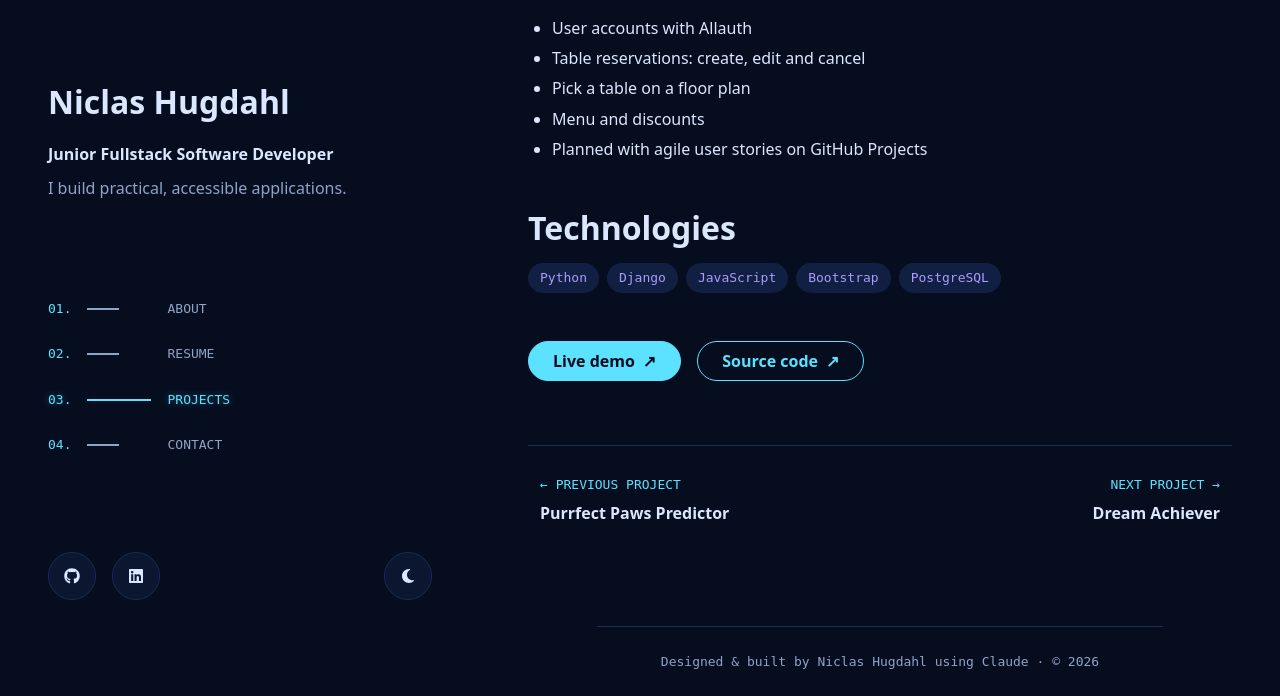
Test: ProjectDetailPage › links to the previous and next project, and follows them
(page scrolled)
Click the link "Next project → Dream Achiever": [1156, 500] box [1093,477,1220,524]
(page scrolled)
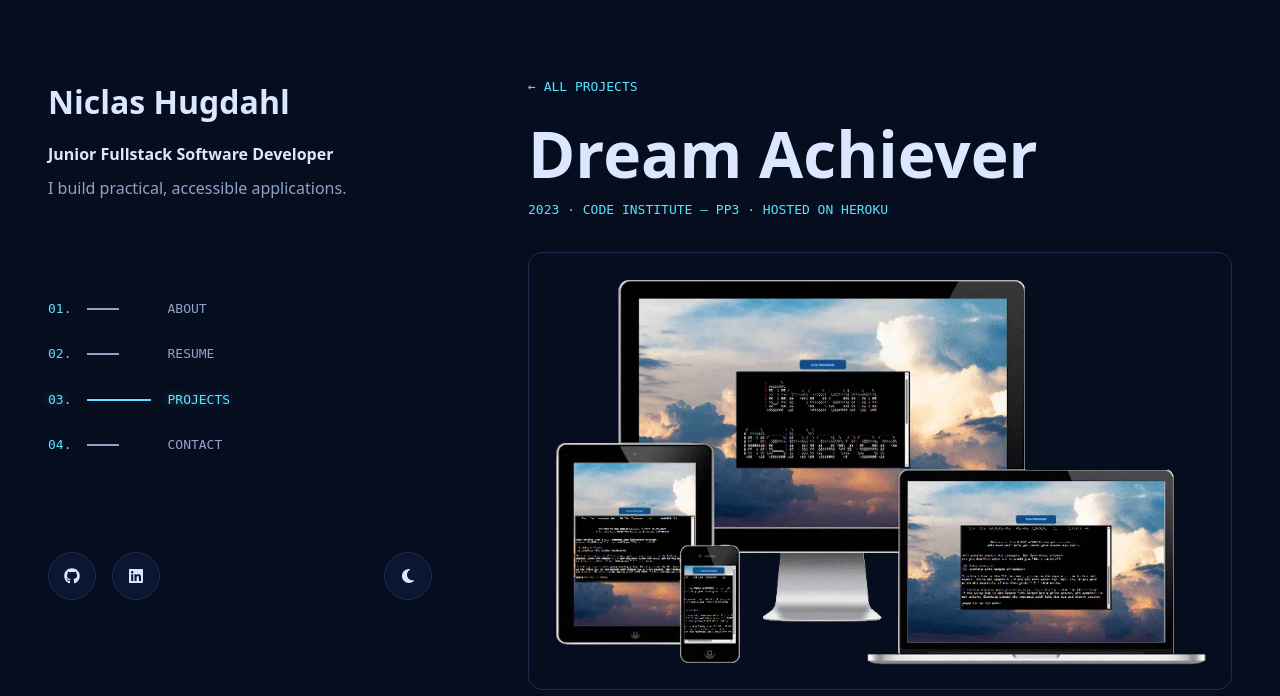
Check: the heading "Dream Achiever" is shown, box [528,110,1038,197]
